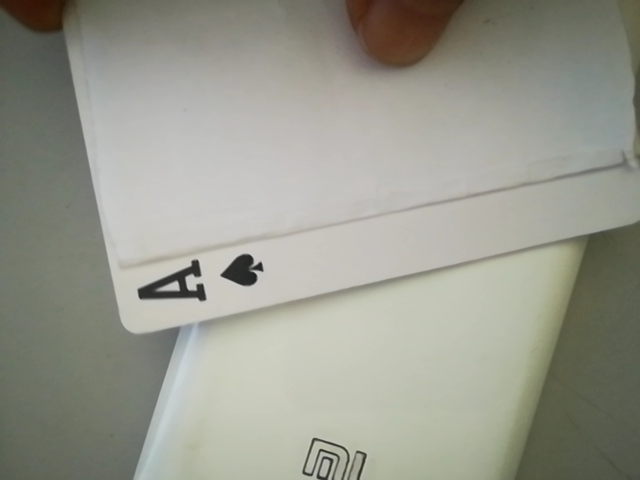ht a: (121, 240, 279, 321)
